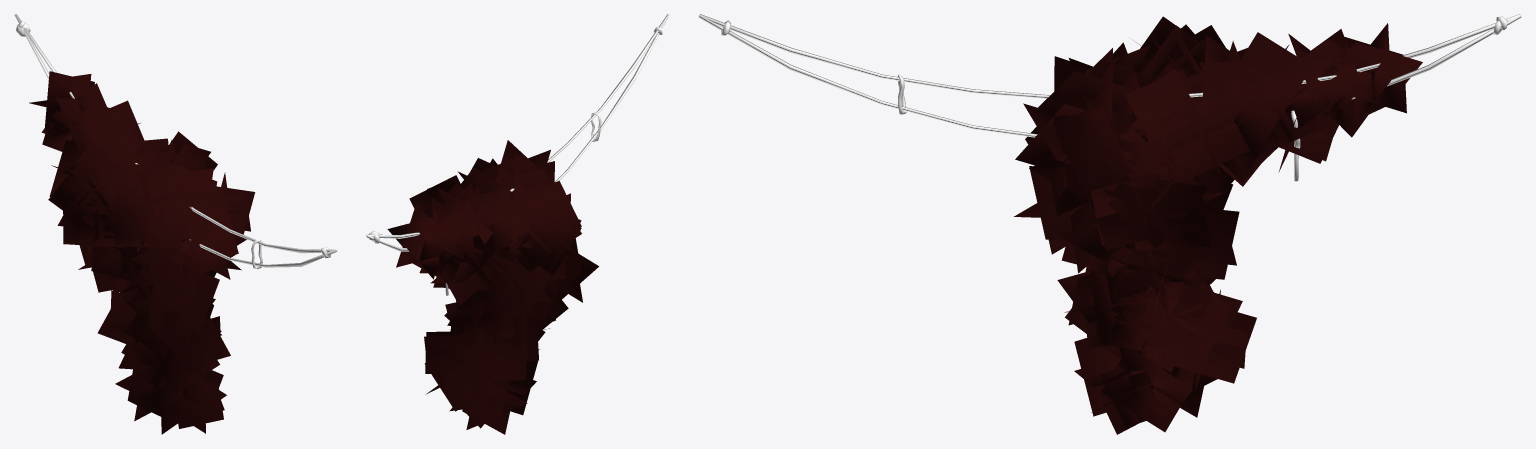
File: TAI_Rope_Vine_02A.fbx
3 renders of one model, left to right at view 1: azimuth 30°, elevation 25°; view 2: azimuth 150°, elevation 25°; view 3: azimuth 270°, elevation 25°, orthographic. The views are drawn at different scales.
Parts seen in each view (by area): view 1: TAI_Rope_Vine_02A_LOD1; view 2: TAI_Rope_Vine_02A_LOD1; view 3: TAI_Rope_Vine_02A_LOD1.
Boxes of the visible parts, x1,y1,x2,y2 form: TAI_Rope_Vine_02A_LOD1: (14, 14, 337, 434); TAI_Rope_Vine_02A_LOD1: (366, 14, 669, 434); TAI_Rope_Vine_02A_LOD1: (698, 14, 1521, 434).
Bounding box in the file's own units: 361 × 645 × 1202.
